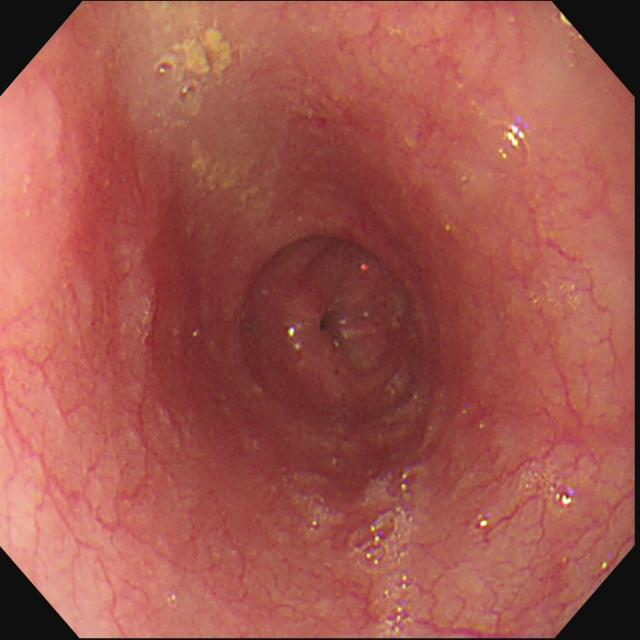I: (246, 235, 425, 415)
J: (191, 143, 259, 203), (175, 27, 231, 79)
T: (355, 469, 415, 638), (153, 63, 200, 113), (523, 468, 576, 508), (492, 117, 537, 164)
